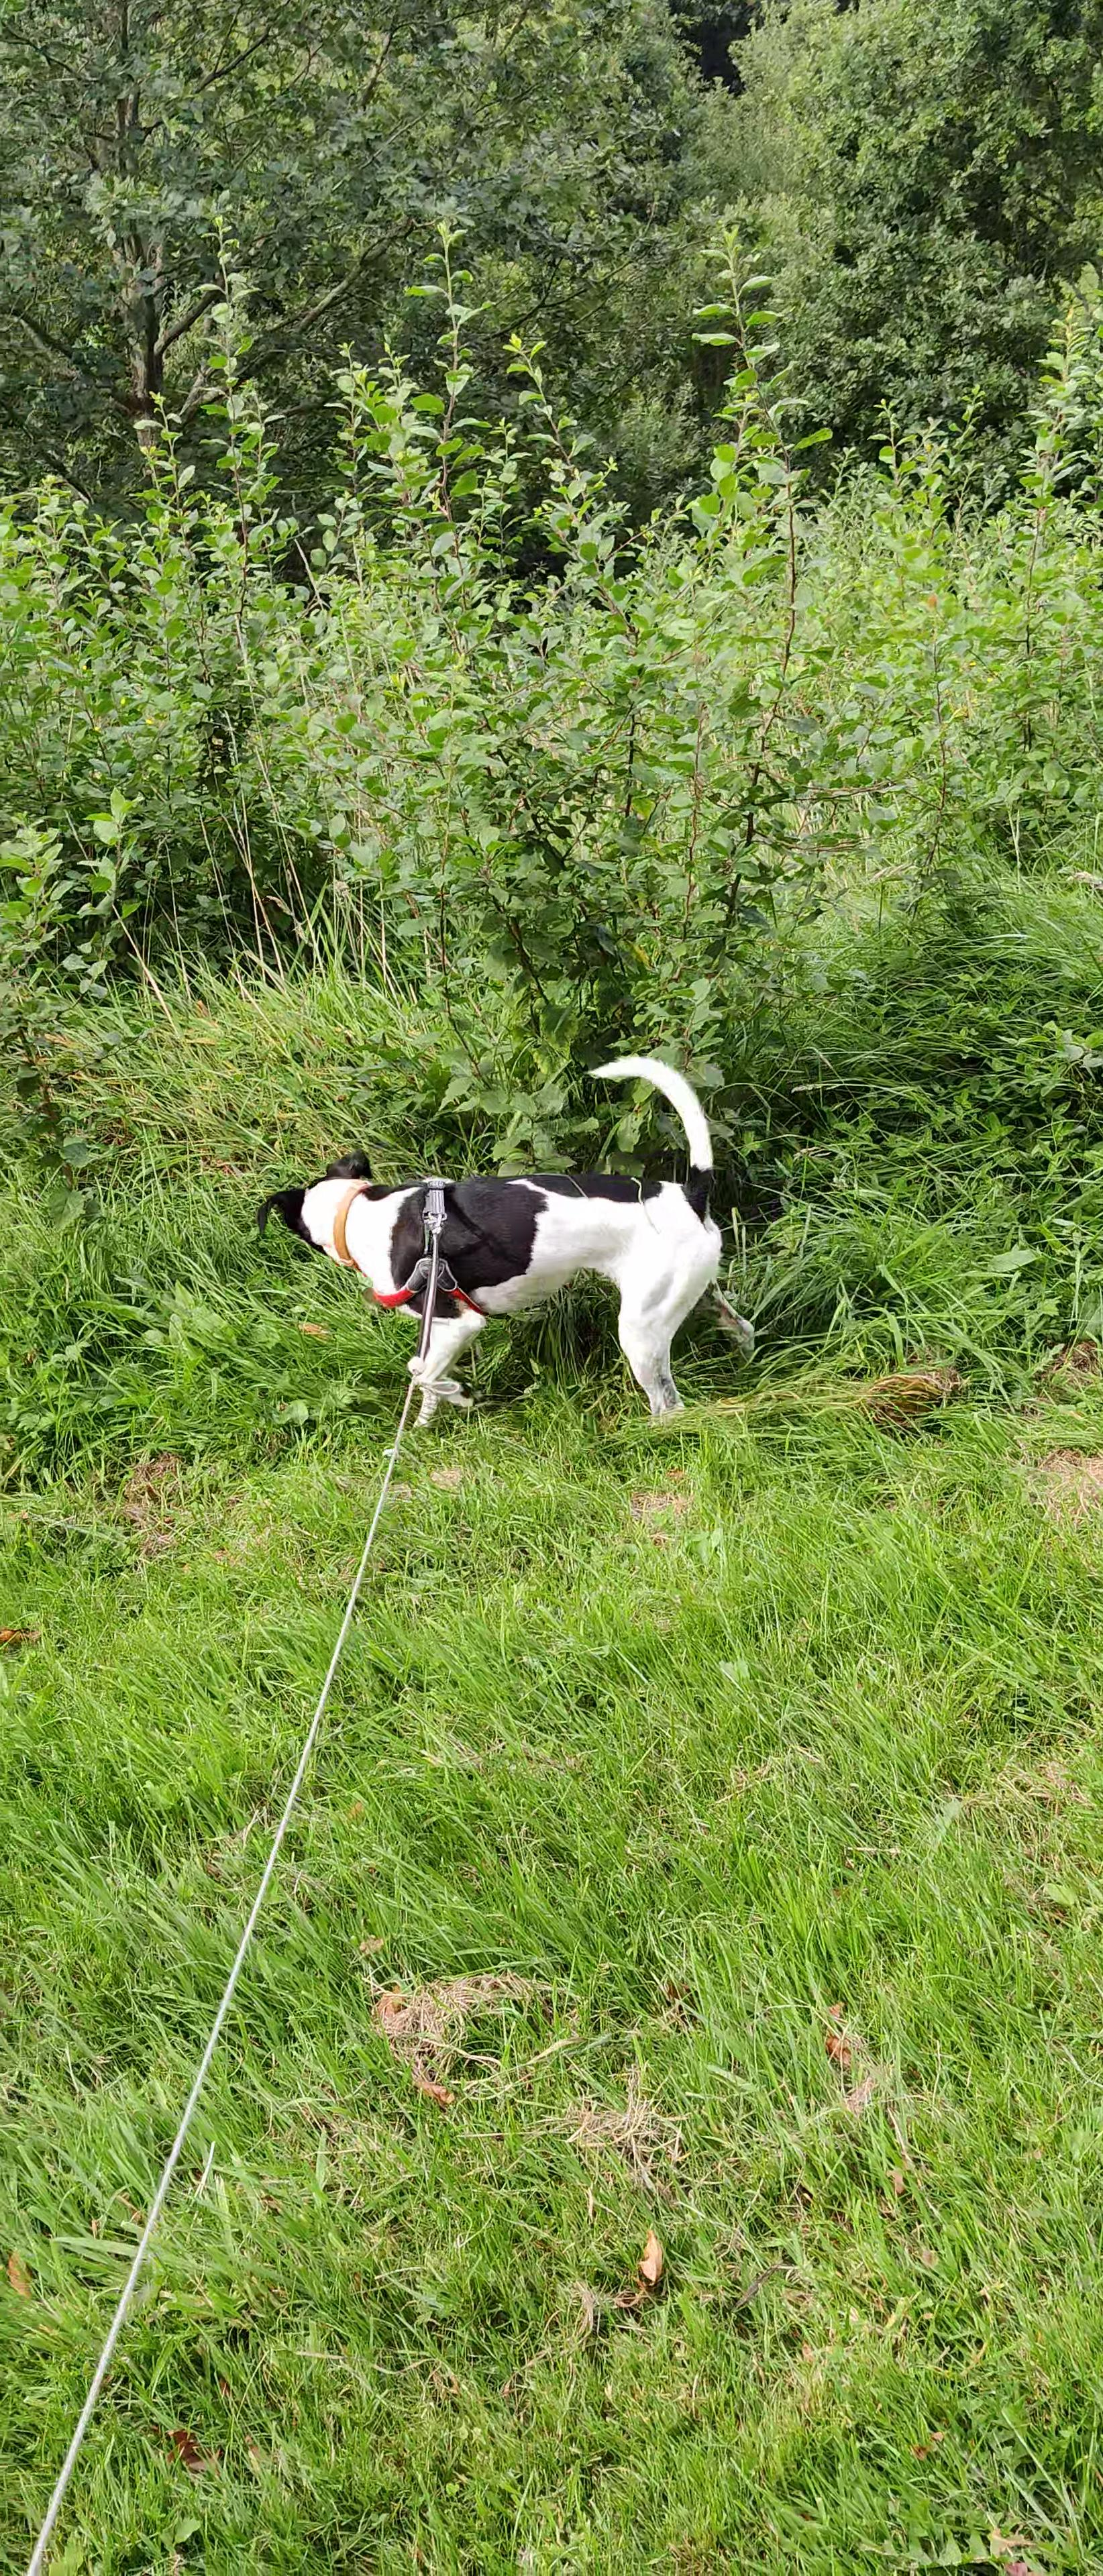Dog: (250, 1043, 768, 1449)
